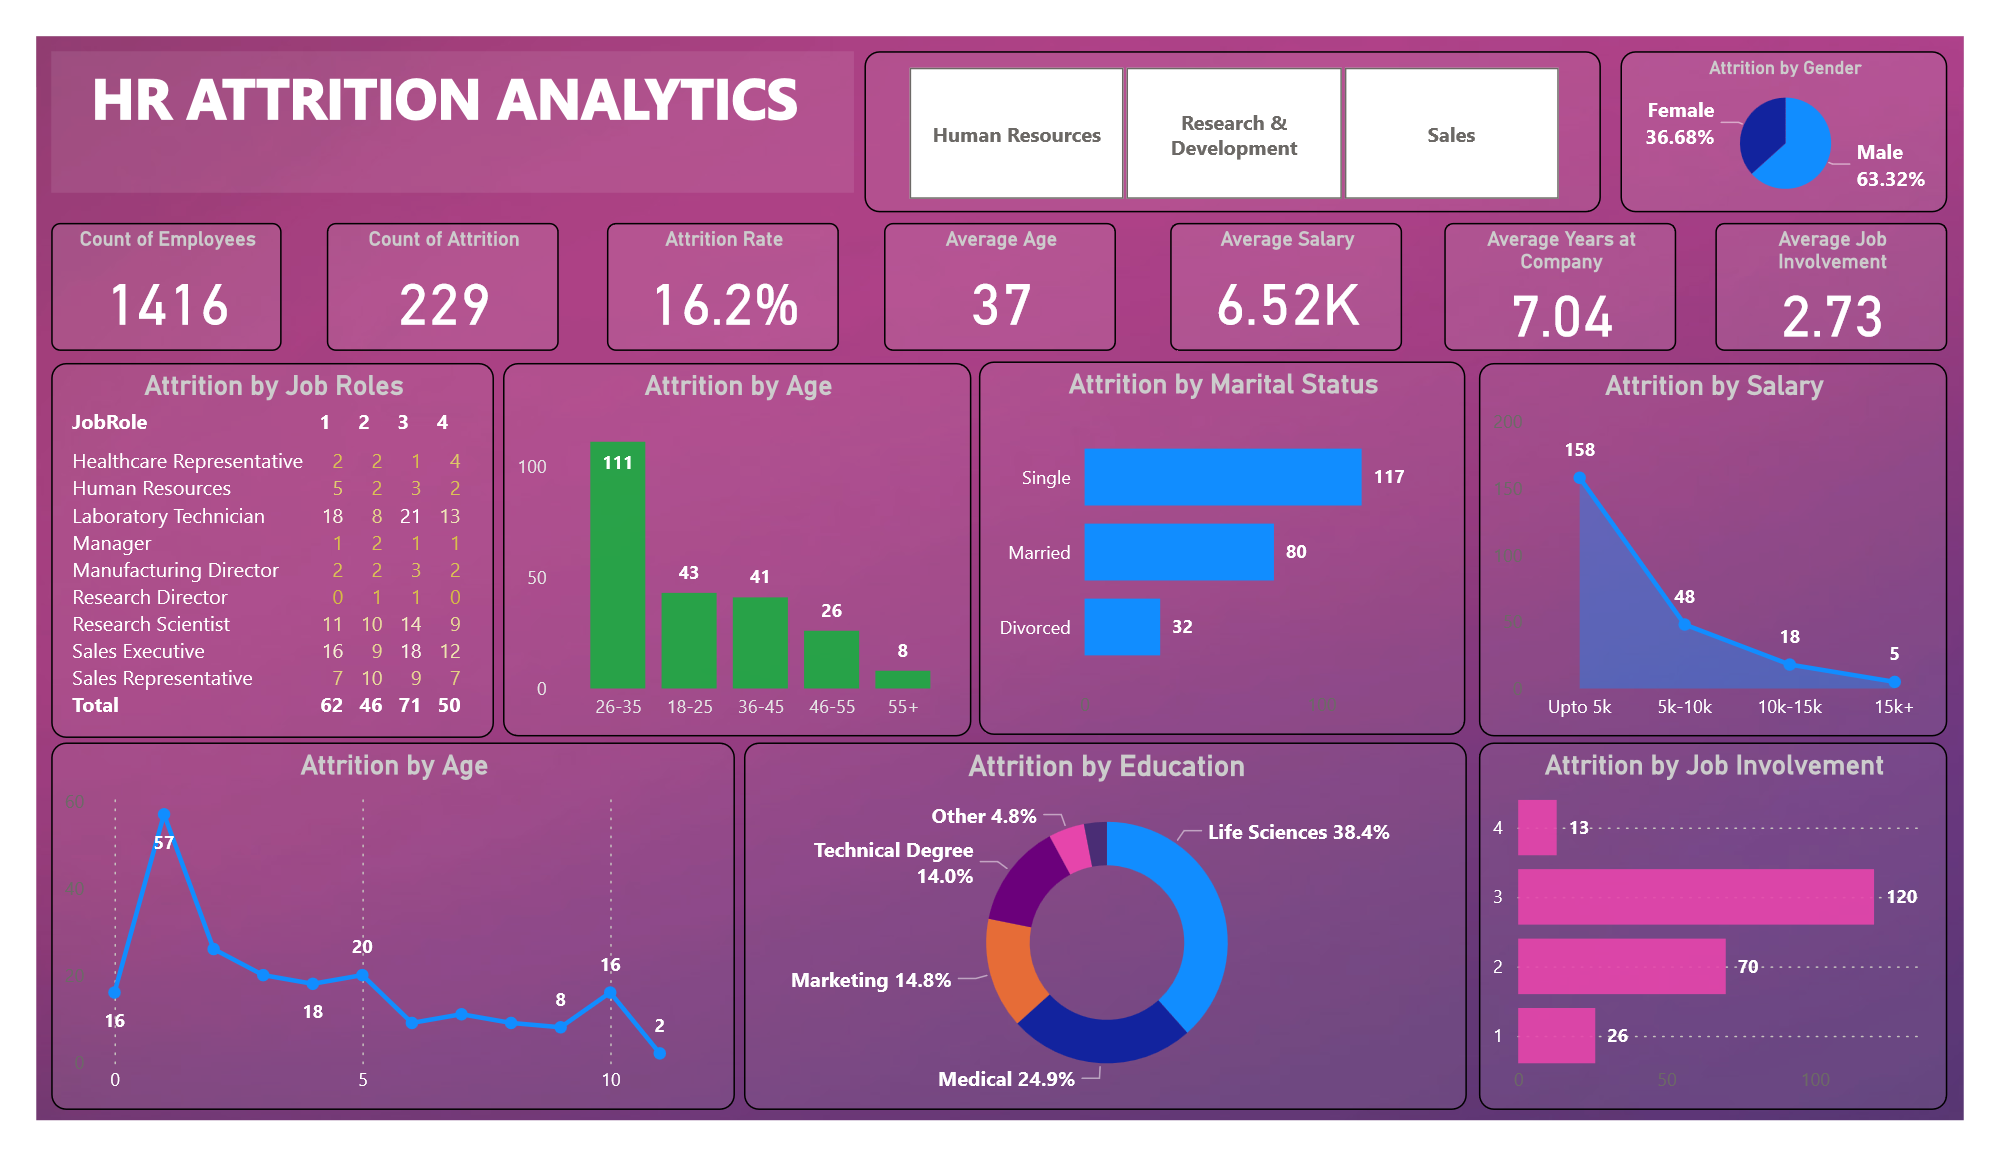

This screenshot's page, from the dashboard's own definition file:
{"tool":"powerbi","page":{"name":"Page 1","canvas":[1280,720],"ordinal":0},"visuals":[{"type":"card","title":"Count of Employees","fields":{"Values":["CountNonNull(HR_Analytics.EmpID)"]},"box":[10,124.3,153.2,84.5],"z":0},{"type":"card","title":"Attrition Rate","fields":{"Values":["HR_Analytics.AttritionRate"]},"box":[378.8,124.3,154,85],"z":1000},{"type":"card","title":"Average Age","fields":{"Values":["Avg(HR_Analytics.Age)"]},"box":[563.4,124.3,154,85],"z":2000},{"type":"card","title":"Average Salary","fields":{"Values":["Avg(HR_Analytics.MonthlyIncome)"]},"box":[752.8,124.3,154,85],"z":3000},{"type":"card","title":"Count of Attrition","fields":{"Values":["Sum(HR_Analytics.AttritionCount)"]},"box":[193,124.3,154.4,84.5],"z":4000},{"type":"card","title":"Average Years at Company","fields":{"Values":["Avg(HR_Analytics.YearsAtCompany)"]},"box":[935,124.3,154,85],"z":5000},{"type":"card","title":"Average Job Involvement","fields":{"Values":["Avg(HR_Analytics.JobInvolvement)"]},"box":[1114.8,124.3,154.4,84.5],"z":6000},{"type":"donutChart","title":"Attrition by Education","fields":{"Y":["Sum(HR_Analytics.AttritionCount)"],"Category":["HR_Analytics.EducationField"]},"box":[470,469,480,243.7],"z":7000},{"type":"columnChart","title":"Attrition by Age","fields":{"Category":["HR_Analytics.AgeGroup"],"Y":["Sum(HR_Analytics.AttritionCount)"]},"box":[310,217,311.3,248],"z":8000},{"type":"pivotTable","title":"Attrition by Job Roles","fields":{"Rows":["HR_Analytics.JobRole"],"Columns":["HR_Analytics.JobSatisfaction"],"Values":["Sum(HR_Analytics.AttritionCount)"]},"box":[10,217,294.4,248.5],"z":9000},{"type":"pieChart","title":"Attrition by Gender","fields":{"Category":["HR_Analytics.Gender"],"Y":["Sum(HR_Analytics.AttritionCount)"]},"box":[1052,9.7,217.2,107.4],"z":10000},{"type":"areaChart","title":"Attrition by Salary","fields":{"Category":["HR_Analytics.SalarySlab"],"Y":["Sum(HR_Analytics.AttritionCount)"]},"box":[958,217.2,311.3,248],"z":11000},{"type":"lineChart","title":"Attrition by Age","fields":{"Category":["HR_Analytics.YearsAtCompany"],"Y":["Sum(HR_Analytics.AttritionCount)"]},"box":[10,469,453.6,243.7],"z":12000},{"type":"clusteredBarChart","title":"Attrition by Job Involvement","fields":{"Category":["HR_Analytics.JobInvolvement"],"Y":["Sum(HR_Analytics.AttritionCount)"]},"box":[958,469,311.3,243.7],"z":13000},{"type":"slicer","title":"Department","fields":{"Values":["HR_Analytics.Department"]},"box":[550.1,9.7,488.6,107.4],"z":13001},{"type":"textbox","box":[10,9.7,533.2,94.1],"z":13003},{"type":"barChart","title":"Attrition by Marital Status","fields":{"Category":["HR_Analytics.MaritalStatus"],"Y":["Sum(HR_Analytics.AttritionCount)"]},"box":[626.1,216,323.3,248],"z":13004}]}

Visuals, with their boxes in screenshot pixels (x1, y1, x2, y2), scaled from the page's 1280x720 canvas onto the 2000x1156 screenshot:
"Count of Employees" card: Rect(16, 200, 255, 335)
"Attrition Rate" card: Rect(592, 200, 832, 336)
"Average Age" card: Rect(880, 200, 1121, 336)
"Average Salary" card: Rect(1176, 200, 1417, 336)
"Count of Attrition" card: Rect(302, 200, 543, 335)
"Average Years at Company" card: Rect(1461, 200, 1702, 336)
"Average Job Involvement" card: Rect(1742, 200, 1983, 335)
"Attrition by Education" donutChart: Rect(734, 753, 1484, 1144)
"Attrition by Age" columnChart: Rect(484, 348, 971, 747)
"Attrition by Job Roles" pivotTable: Rect(16, 348, 476, 747)
"Attrition by Gender" pieChart: Rect(1644, 16, 1983, 188)
"Attrition by Salary" areaChart: Rect(1497, 349, 1983, 747)
"Attrition by Age" lineChart: Rect(16, 753, 724, 1144)
"Attrition by Job Involvement" clusteredBarChart: Rect(1497, 753, 1983, 1144)
"Department" slicer: Rect(860, 16, 1623, 188)
textbox: Rect(16, 16, 849, 167)
"Attrition by Marital Status" barChart: Rect(978, 347, 1483, 745)
